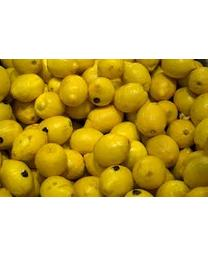lemon: (1, 155, 35, 195), (91, 133, 132, 166), (34, 142, 68, 178), (134, 153, 166, 191), (13, 128, 49, 160), (136, 102, 167, 138), (98, 165, 134, 194), (116, 84, 149, 113), (32, 90, 66, 118), (151, 132, 179, 166), (60, 76, 88, 104)
